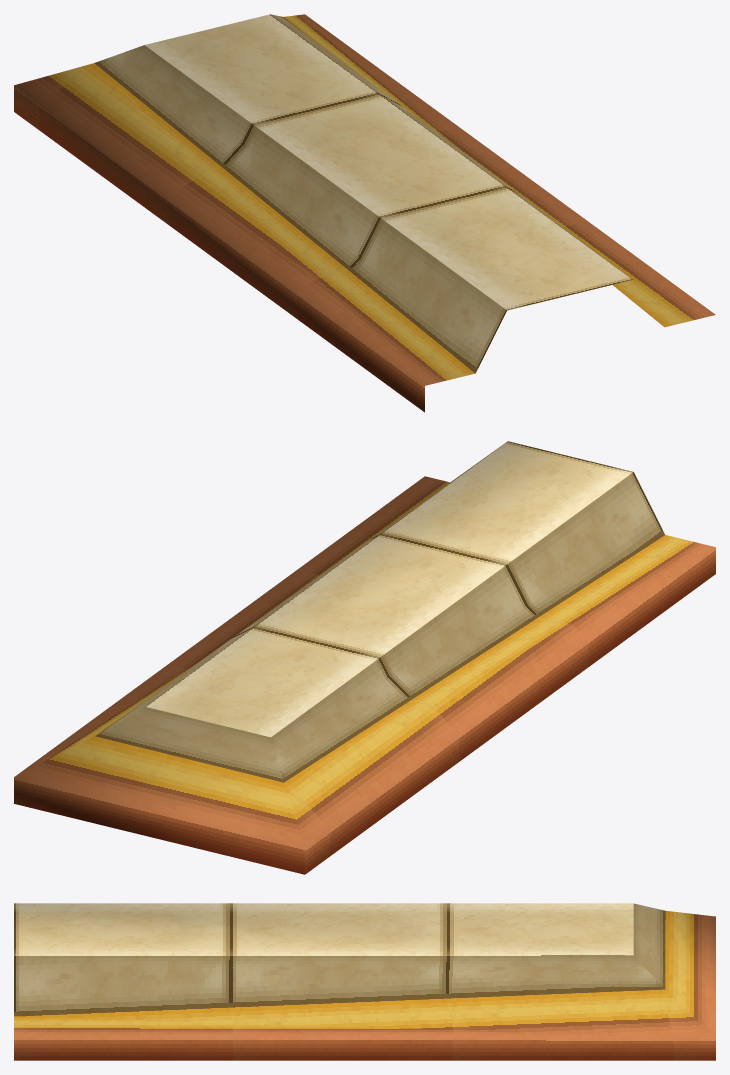
File: a_SEblockB05.glb
3 views of the same model, one above another, from view 1: azimuth 30°, elevation 25°; view 2: azimuth 150°, elevation 25°; view 3: azimuth 270°, elevation 25° (orthographic). The views are drawn at different scales.
Visible parts, largest first — view 1: a_SEblockB05; view 2: a_SEblockB05; view 3: a_SEblockB05.
Part boxes in pixels (left/top/right/bottom): a_SEblockB05: left=14, top=14, right=715, bottom=412; a_SEblockB05: left=14, top=441, right=715, bottom=874; a_SEblockB05: left=14, top=903, right=715, bottom=1060.
Bounding box in the file's own units: 0.5783 × 0.1558 × 1.41.
Materials: 1 (1 with a texture image).
